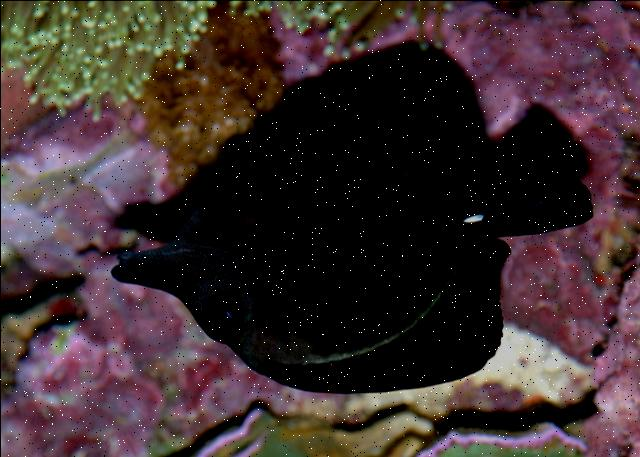Mulut: (72, 214, 186, 305)
Sirip Anal: (308, 56, 498, 216)
Sirip Dada: (222, 185, 360, 289)
Sirip Ekor: (458, 117, 604, 247)
Sirip Perut: (225, 108, 322, 198)
Sirip Punggung: (266, 231, 520, 407)
